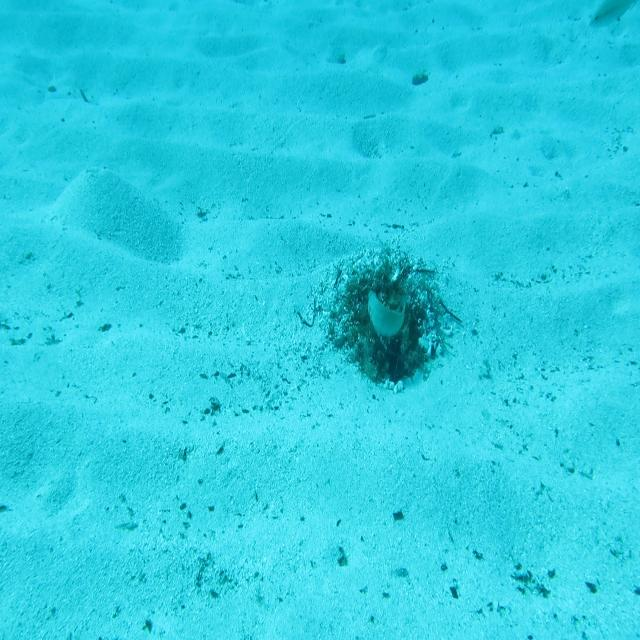BEND: (366, 288, 412, 347)
female: (588, 0, 640, 38)
nest: (324, 242, 462, 390)
